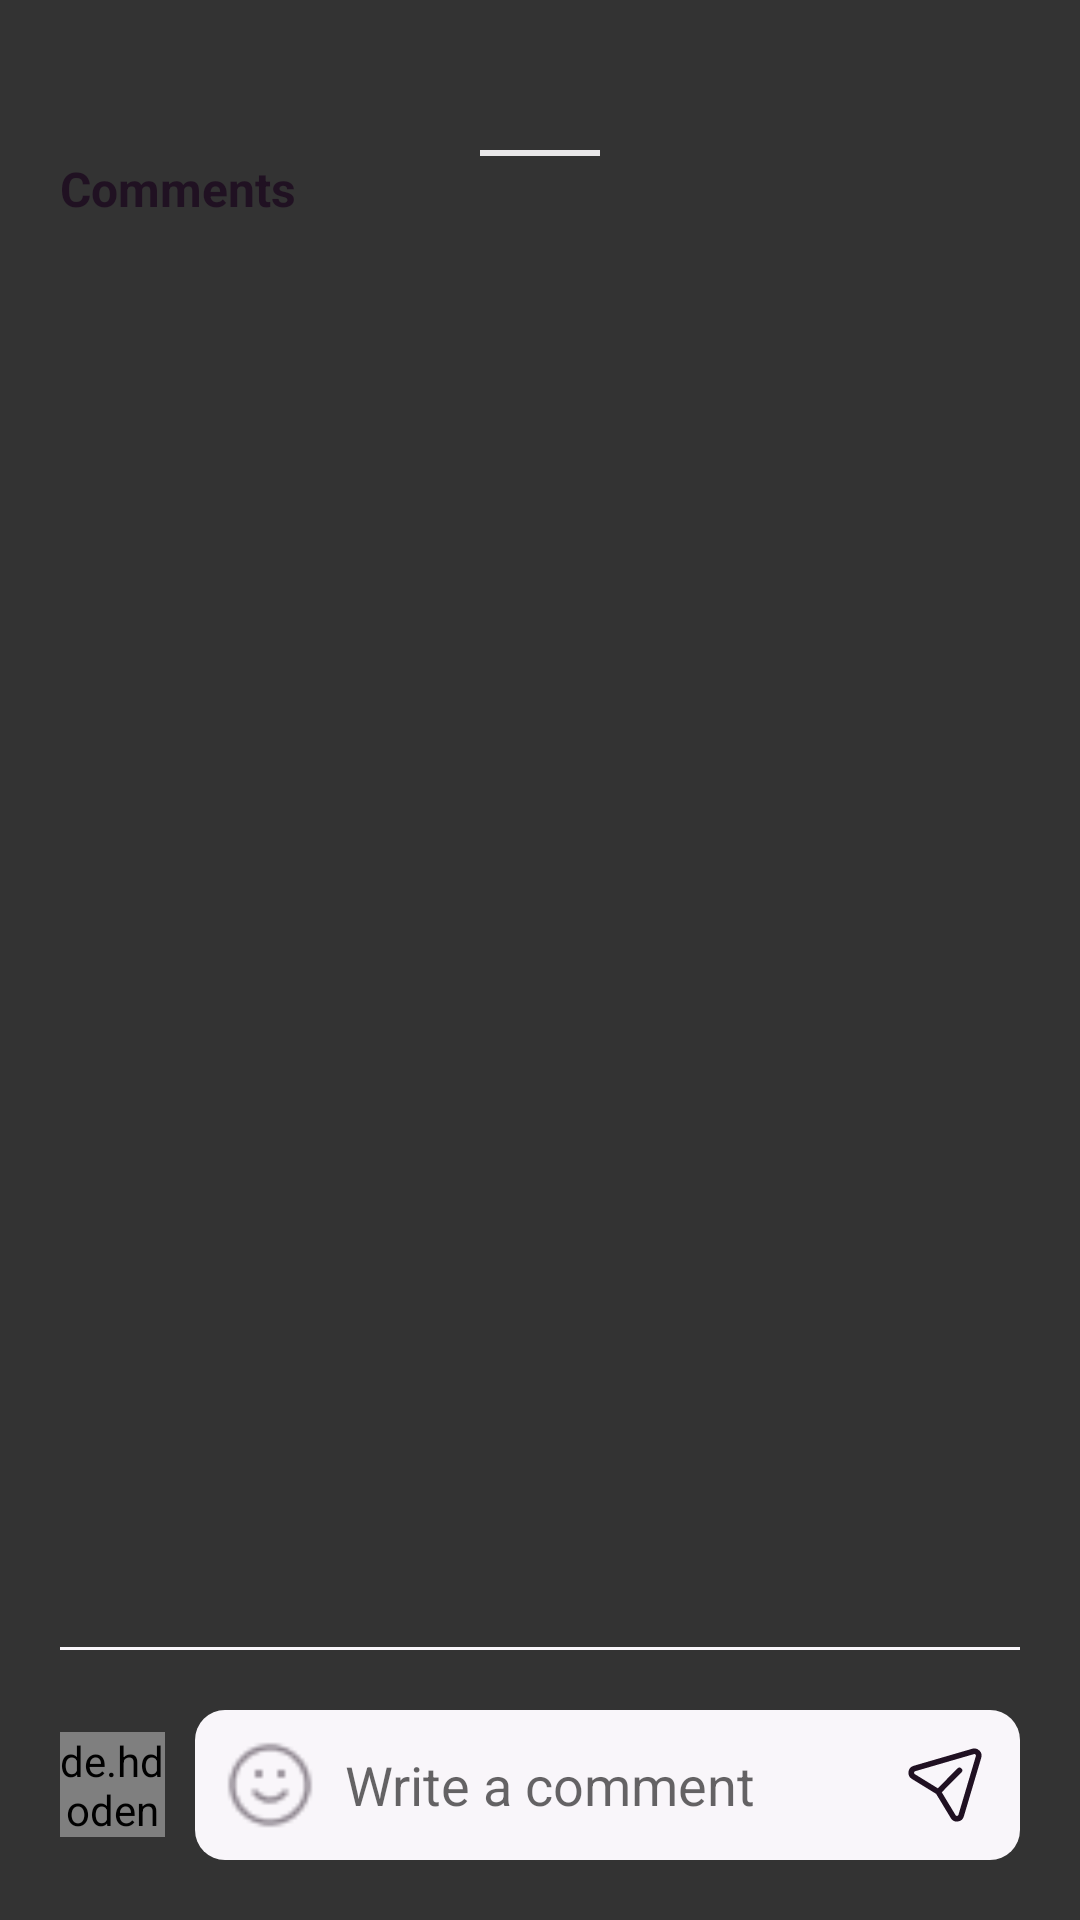

Named icons in this screenshot (1080x1920) and their bounding boxes, (x1, y1, x2, y2):
send: (908, 1748, 982, 1822)
smile: (228, 1743, 312, 1827)
